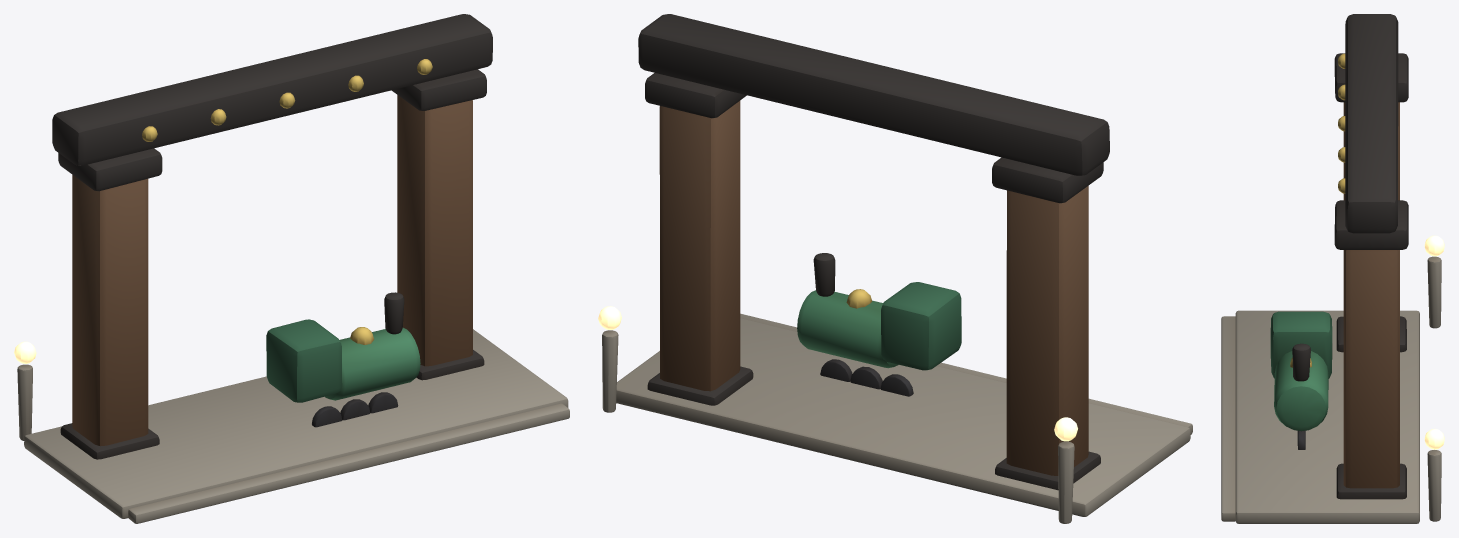
3 renders of one model, left to right at view 1: azimuth 30°, elevation 25°; view 2: azimuth 150°, elevation 25°; view 3: azimuth 270°, elevation 25°, orthographic. The views are drawn at different scales.
Visible parts, largest first — view 1: gate_40dd8bd8; view 2: gate_40dd8bd8; view 3: gate_40dd8bd8.
Boxes of the visible parts, box(x1,y1,x2,y2) form: gate_40dd8bd8: box(14, 14, 569, 523); gate_40dd8bd8: box(598, 14, 1192, 523); gate_40dd8bd8: box(1221, 14, 1444, 523).
Bounding box in the file's own units: 5.47 × 4 × 2.54.
